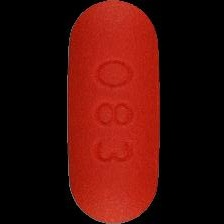54868-5291: (0, 0, 224, 224)
